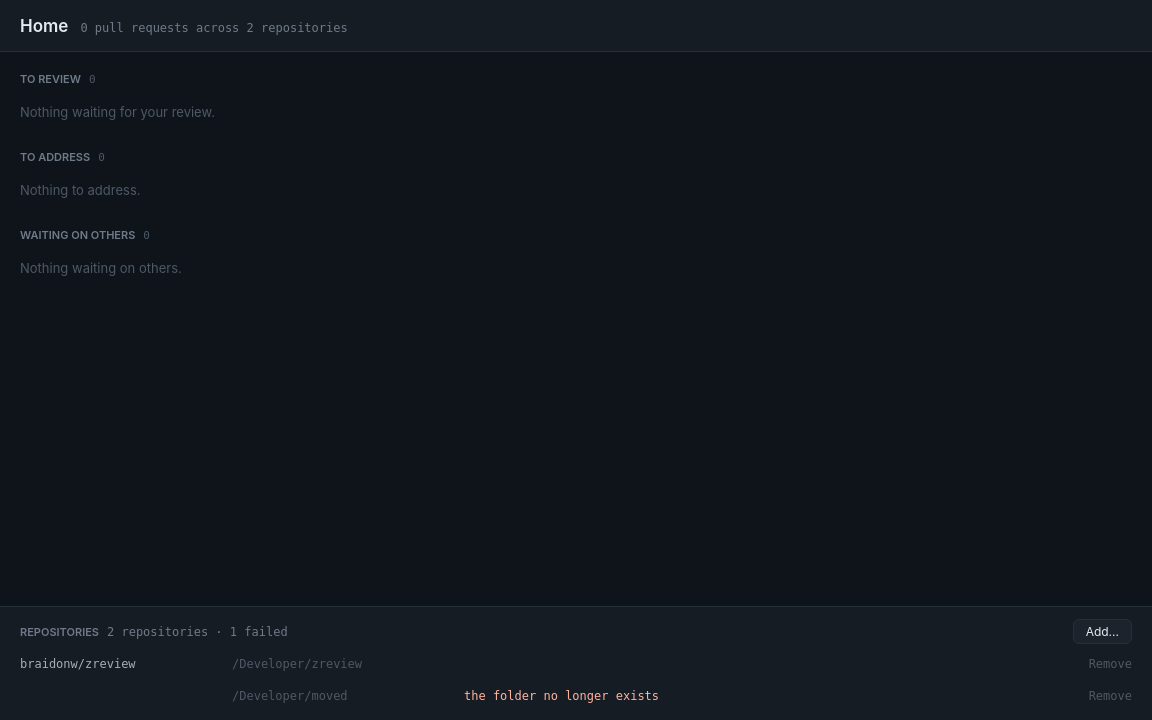
Test: Home › removes the repository the Remove beside it names
This screenshot has width=1152, height=720.
Expected: the text "braidonw/zreview" is shown, [20, 657, 136, 671]
Click the button "Remove" in the row of "/Developer/zreview". click: point(1110, 664)
box: [1089, 657, 1132, 671]
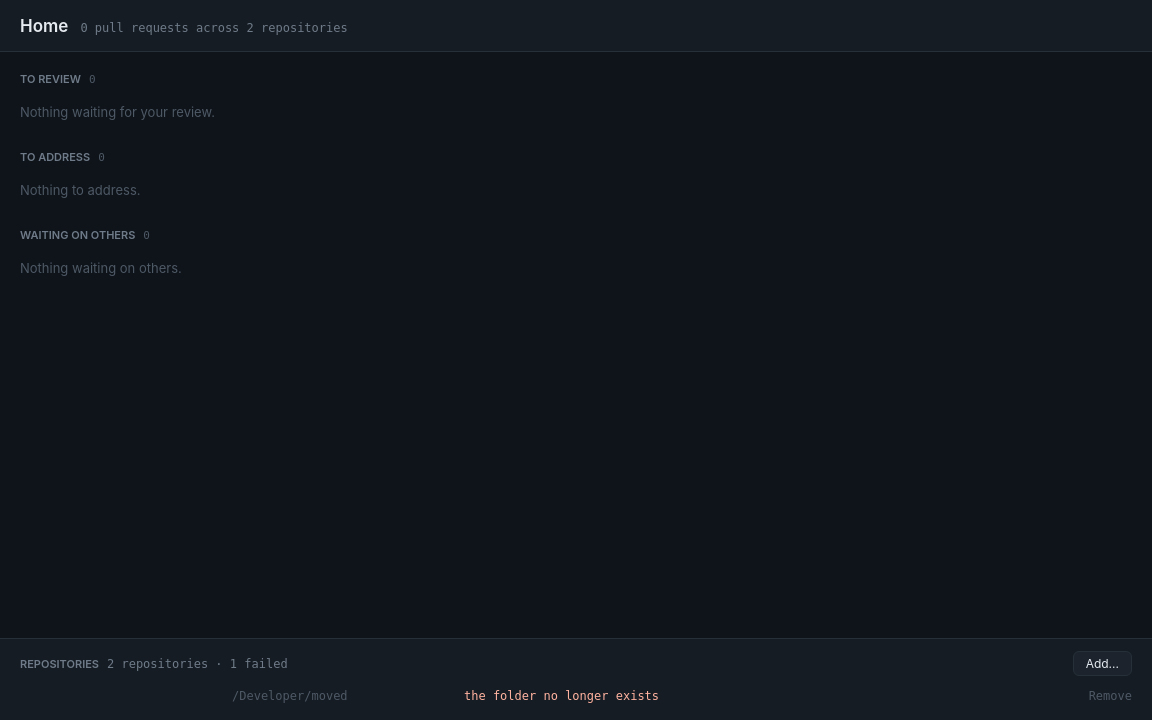
Expected: the text "/Developer/moved" is shown, [232, 689, 348, 703]
Now the text "/Developer/zreview" is gone
